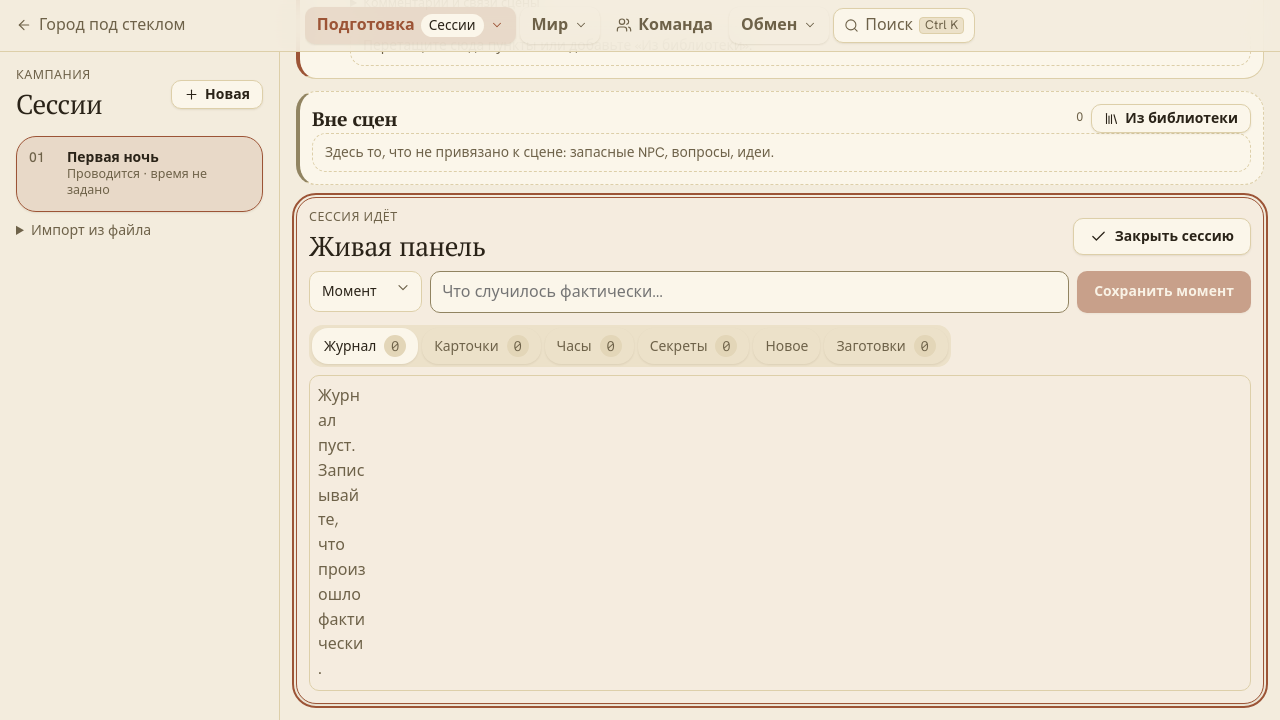
Scenario: stage 2: live session › asks before closing the session and opens the review
This screenshot has width=1280, height=720.
(page scrolled)
Step 1. Click the button "Закрыть сессию" → (1162, 236), box [1073, 218, 1251, 255]
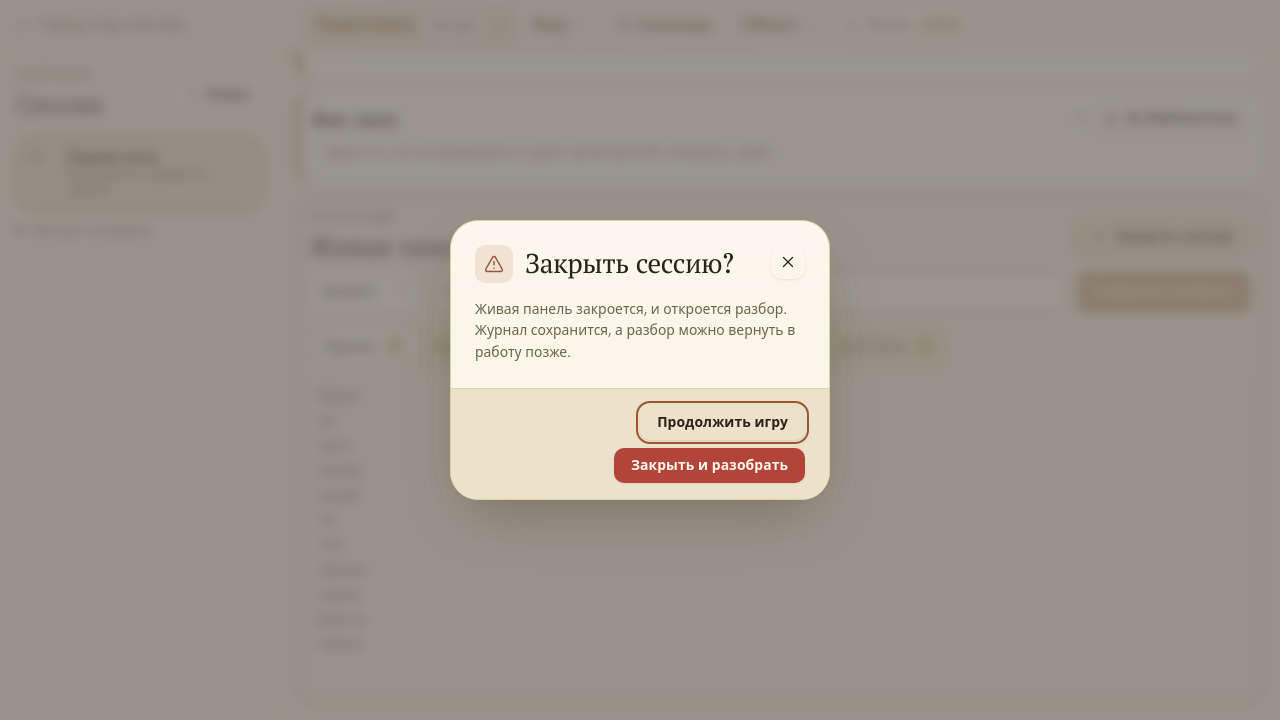
Step 2. Click the button "Продолжить игру" → (723, 422), box [640, 404, 805, 440]
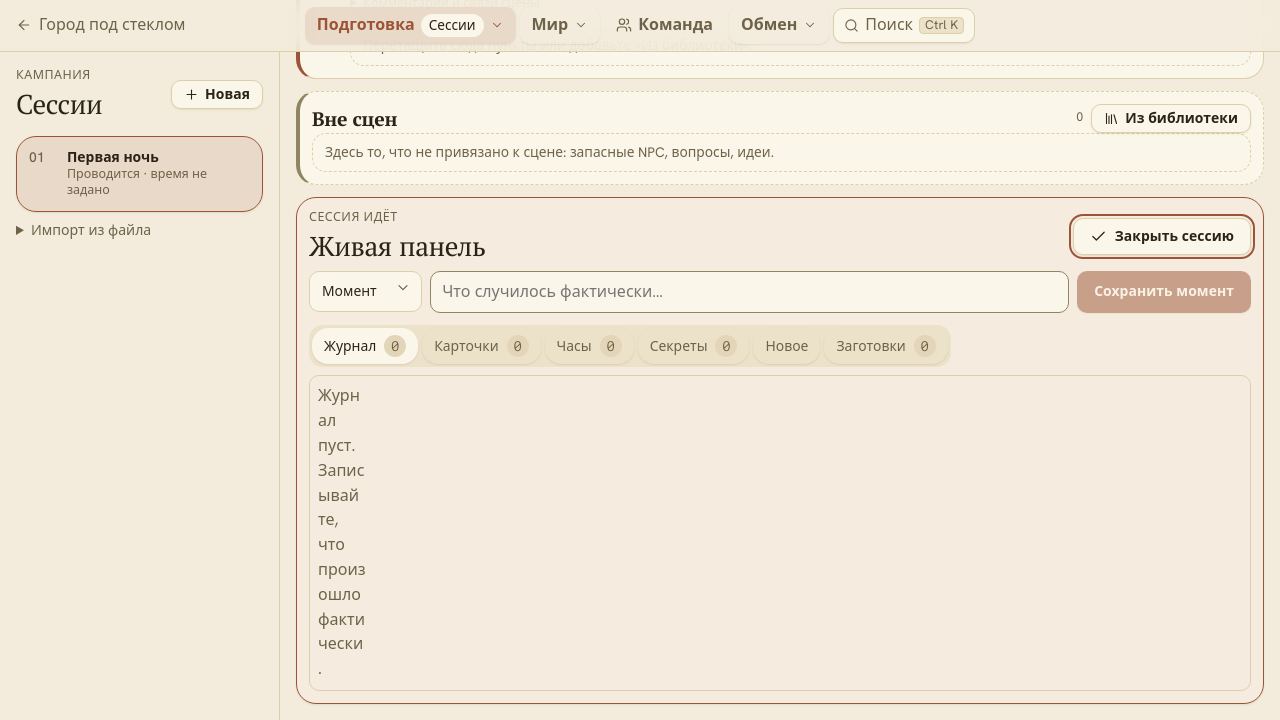
Step 3. Click the button "Закрыть сессию" → (1162, 236), box [1073, 218, 1251, 255]
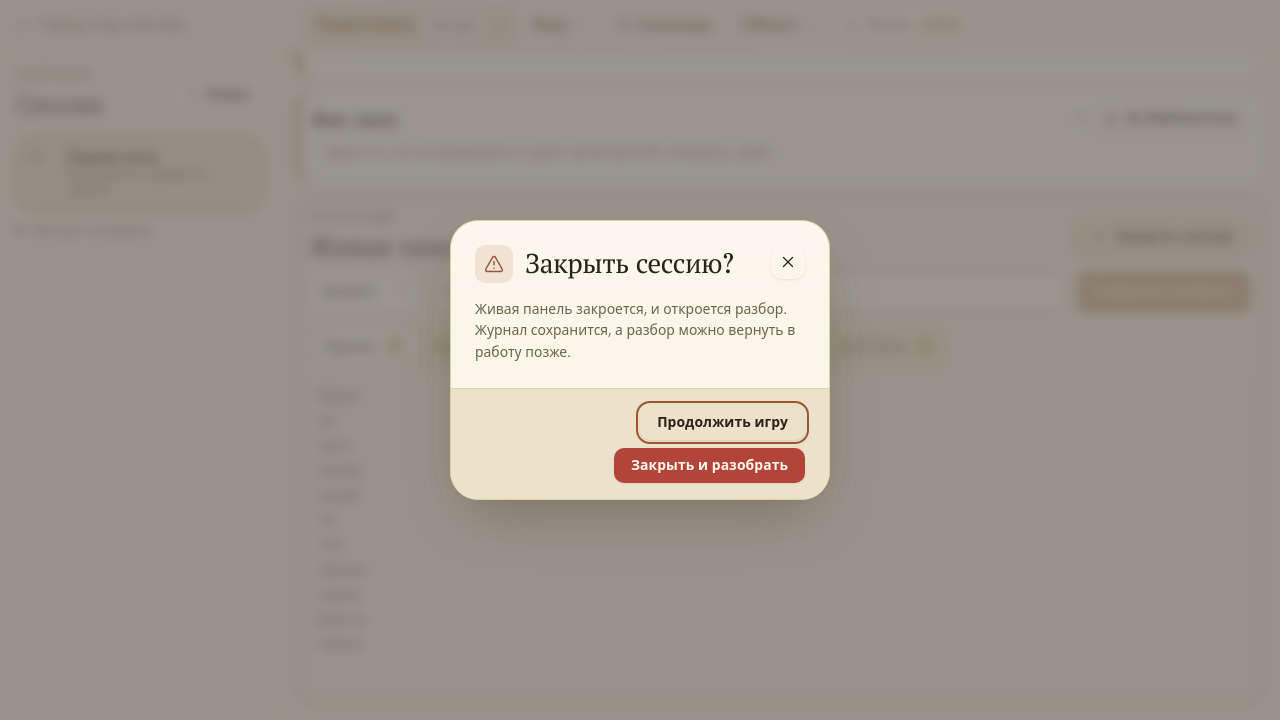
Step 4. Click the button "Закрыть и разобрать" → (710, 466), box [614, 448, 805, 483]
(page scrolled)
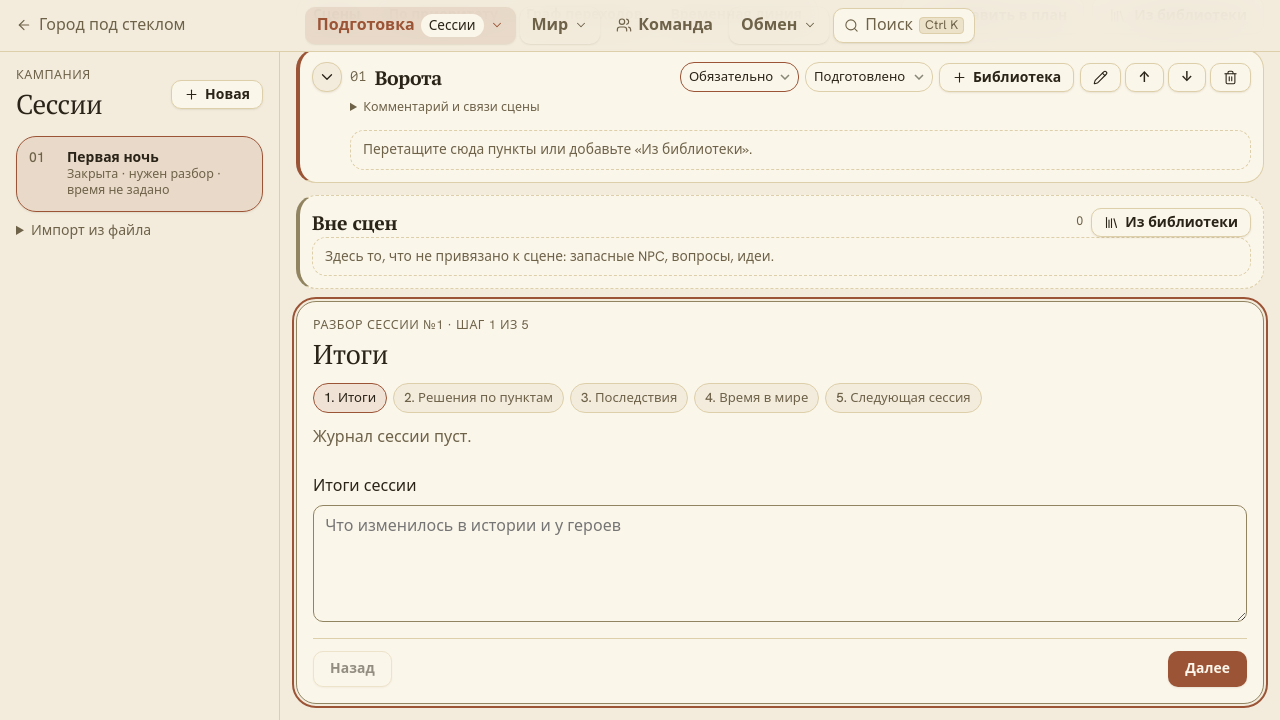
Now the element labelled "Разбор сессии" is shown, box [296, 301, 1264, 704]
